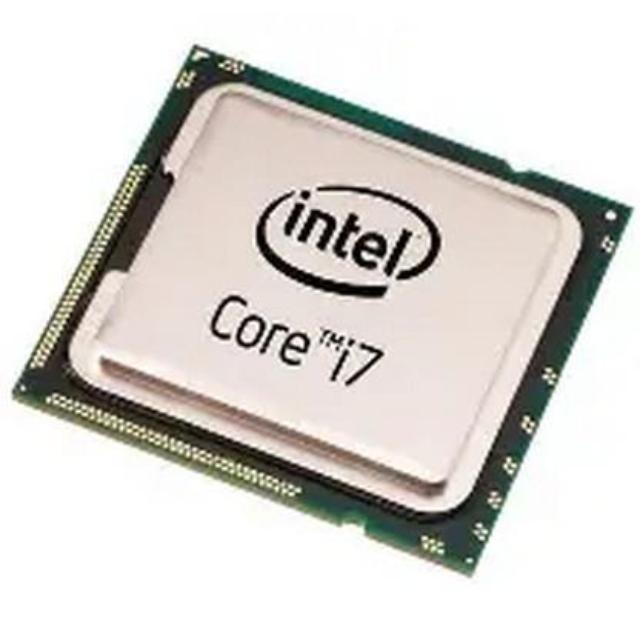CPU: (0, 51, 637, 580)
